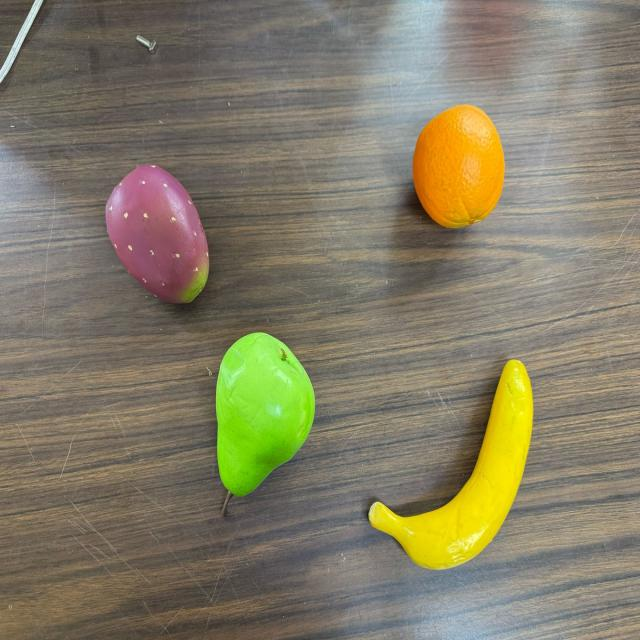banana: (368, 352, 534, 571)
orange: (412, 103, 506, 229)
pear: (216, 331, 316, 518)
tuna: (105, 166, 212, 305)
